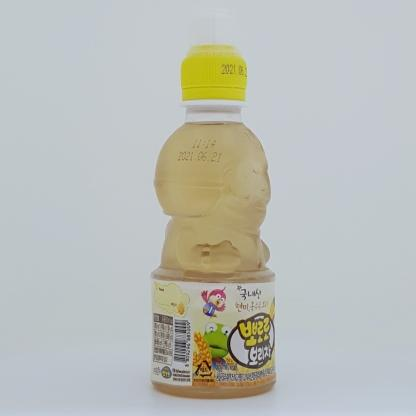--------220ML: (150, 8, 276, 399)
